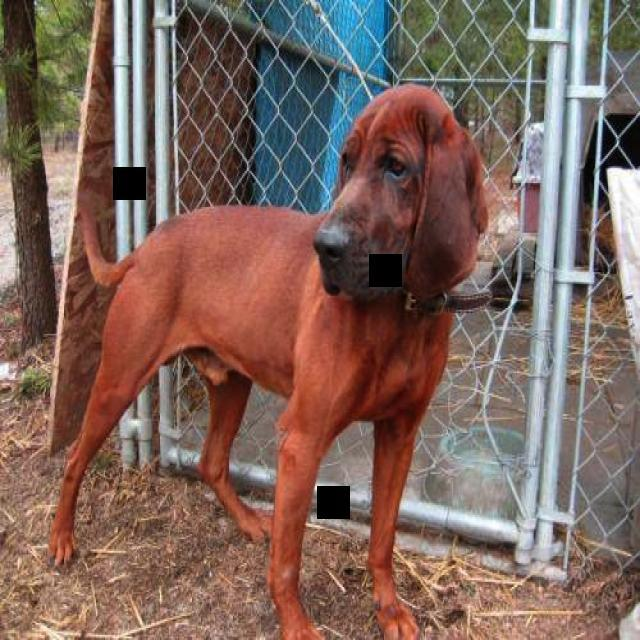adult_dog: (46, 81, 492, 640)
